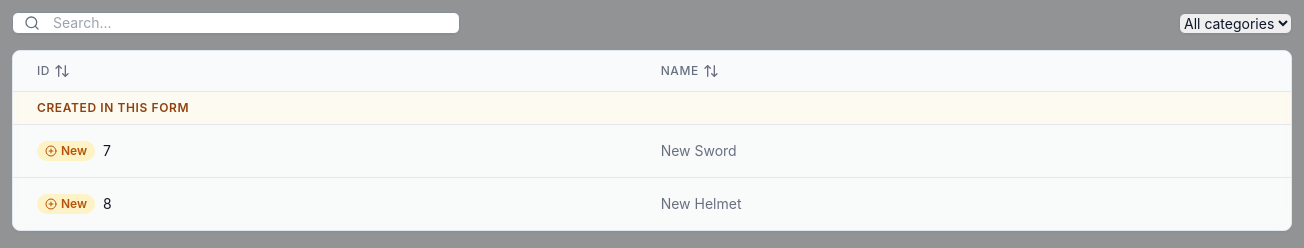
PagedEntityTable category filter › keeps a pinned row of a child category under its parent category
Expected: the text "New Sword" is shown, [637,125,1291,178]
Select "Weapons" in the dropdown named "Category filter": (1236, 23) [1179,12,1292,34]
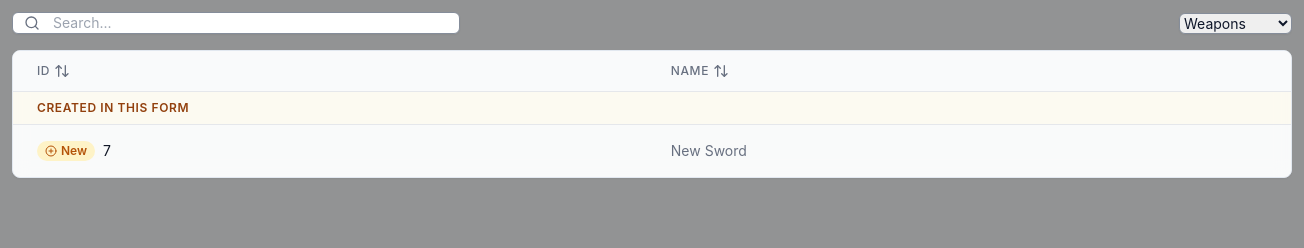
Expected: the text "New Sword" is shown, [647,125,1291,177]
Now the text "New Helmet" is gone
